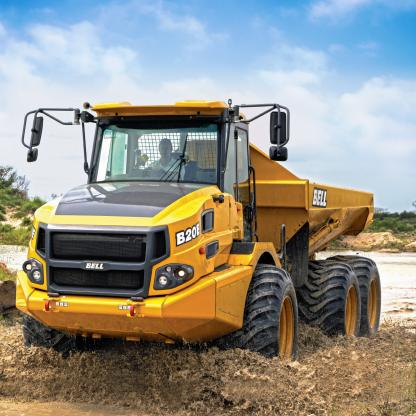dump_truck: (18, 73, 394, 386)
